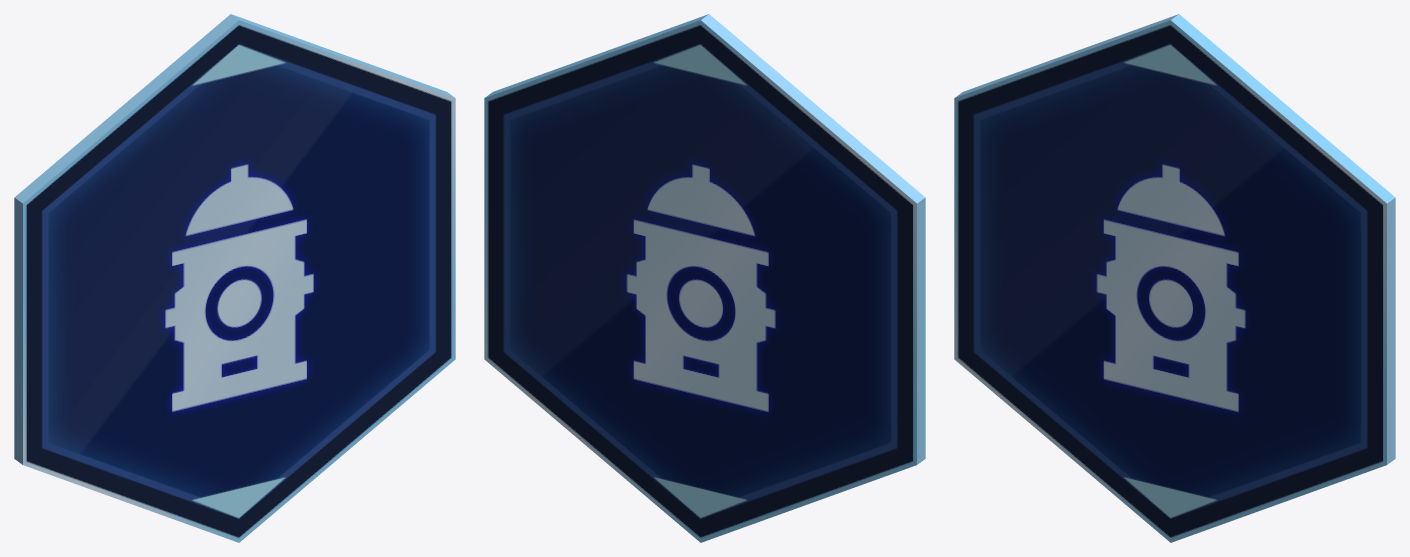
The model's file is Marker_OutdoorHydrant.gltf.
3 views of the same model, side by side, from view 1: azimuth 30°, elevation 25°; view 2: azimuth 150°, elevation 25°; view 3: azimuth 330°, elevation 25° (orthographic).
Parts seen in each view (by area): view 1: MarkerOutdoorHydrant_A; view 2: MarkerOutdoorHydrant_A; view 3: MarkerOutdoorHydrant_A.
Boxes of the visible parts, <box> form: MarkerOutdoorHydrant_A: <box>14,14,455,542</box>; MarkerOutdoorHydrant_A: <box>484,14,925,542</box>; MarkerOutdoorHydrant_A: <box>954,14,1395,542</box>.
Bounding box in the file's own units: 5.94 × 6.86 × 0.2003.
Materials: 1 (1 with a texture image).
